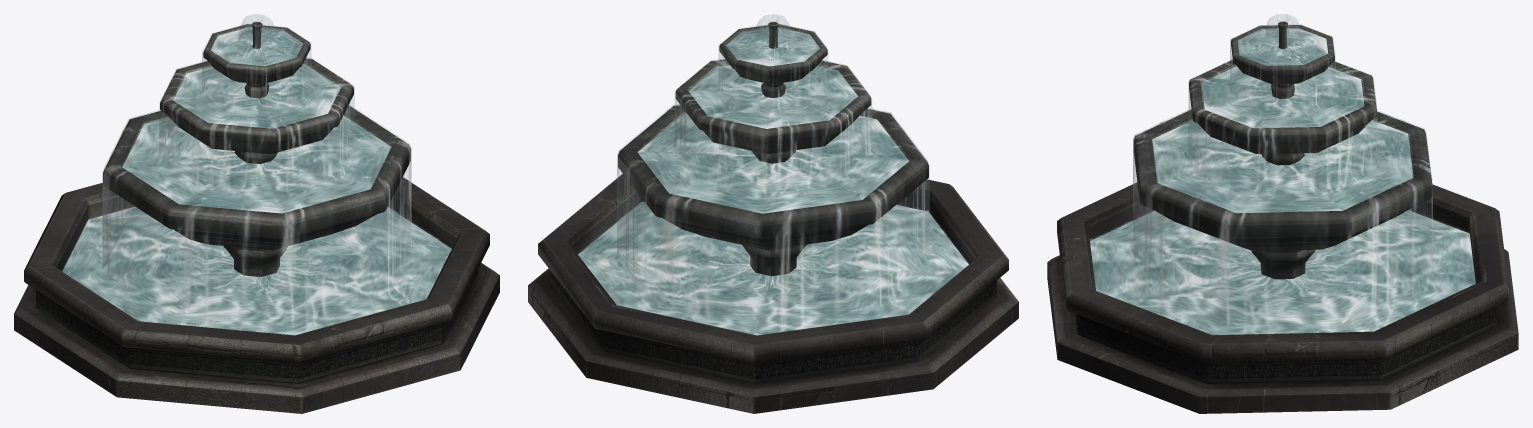
File: fountain.glb
3 renders of one model, left to right at view 1: azimuth 30°, elevation 25°; view 2: azimuth 150°, elevation 25°; view 3: azimuth 270°, elevation 25°, orthographic.
Visible parts, largest first — view 1: prim0-mesh001_1, prim0-mesh001, prim1001, prim0-mesh001_2; view 2: prim0-mesh001_1, prim0-mesh001, prim1001, prim0-mesh001_2; view 3: prim0-mesh001_1, prim0-mesh001, prim1001, prim0-mesh001_2.
Boxes of the visible parts, left/top/right/bottom form: prim0-mesh001_1: left=14, top=21, right=499, bottom=413; prim0-mesh001: left=62, top=27, right=451, bottom=335; prim1001: left=64, top=14, right=447, bottom=334; prim0-mesh001_2: left=56, top=26, right=457, bottom=271; prim0-mesh001_1: left=528, top=22, right=1018, bottom=413; prim0-mesh001: left=578, top=27, right=968, bottom=335; prim1001: left=579, top=14, right=964, bottom=335; prim0-mesh001_2: left=570, top=27, right=976, bottom=264; prim0-mesh001_1: left=1047, top=21, right=1518, bottom=413; prim0-mesh001: left=1090, top=28, right=1475, bottom=335; prim1001: left=1090, top=14, right=1473, bottom=334; prim0-mesh001_2: left=1088, top=27, right=1477, bottom=288.
Size of what is drawn, in the model's own units: 1.96 by 1.36 by 1.96.
4 materials, 4 textured.
